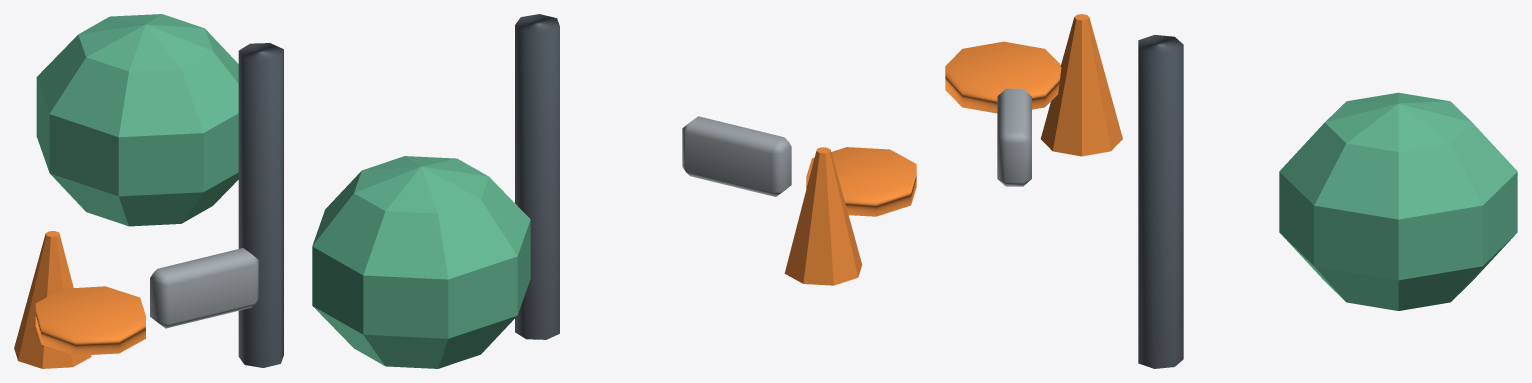
The model's file is AccidentProps.fbx.
3 views of the same model, side by side, from view 1: azimuth 30°, elevation 25°; view 2: azimuth 150°, elevation 25°; view 3: azimuth 270°, elevation 25° (orthographic). The views are drawn at different scales.
Parts seen in each view (by area): view 1: Prop_Tree_Crown, Prop_Tree_Trunk, Prop_Debris, Prop_Cone_Base, Prop_Cone; view 2: Prop_Tree_Crown, Prop_Tree_Trunk, Prop_Cone, Prop_Debris, Prop_Cone_Base; view 3: Prop_Tree_Crown, Prop_Tree_Trunk, Prop_Cone, Prop_Cone_Base, Prop_Debris.
Part boxes in pixels (x1,y1,x2,y2): Prop_Tree_Crown: [36, 14, 238, 226]; Prop_Tree_Trunk: [238, 43, 283, 367]; Prop_Debris: [150, 248, 258, 328]; Prop_Cone_Base: [35, 286, 145, 355]; Prop_Cone: [14, 231, 91, 368]; Prop_Tree_Crown: [312, 156, 530, 368]; Prop_Tree_Trunk: [515, 14, 559, 339]; Prop_Cone: [784, 147, 862, 285]; Prop_Debris: [682, 116, 791, 196]; Prop_Cone_Base: [806, 147, 916, 216]; Prop_Tree_Crown: [1279, 92, 1517, 310]; Prop_Tree_Trunk: [1138, 35, 1183, 368]; Prop_Cone: [1040, 14, 1122, 156]; Prop_Cone_Base: [945, 41, 1061, 113]; Prop_Debris: [997, 88, 1031, 186].
Size of the model in its own units: 2.15 by 1.6 by 2.64.
